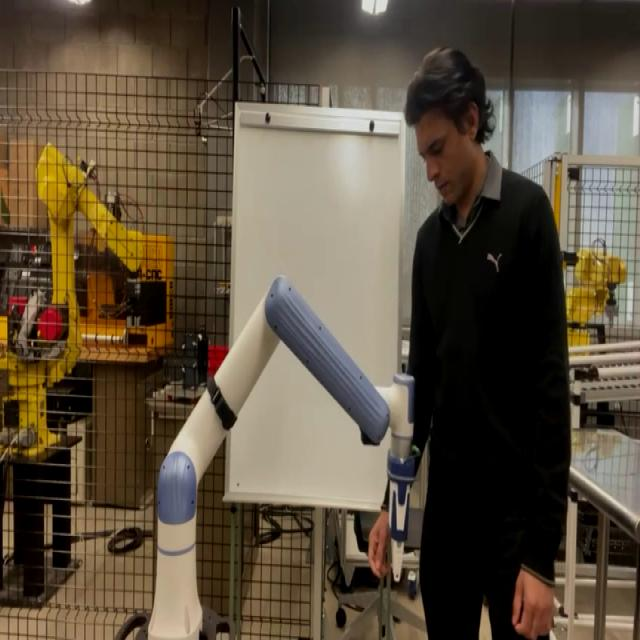robot: (115, 274, 422, 638)
